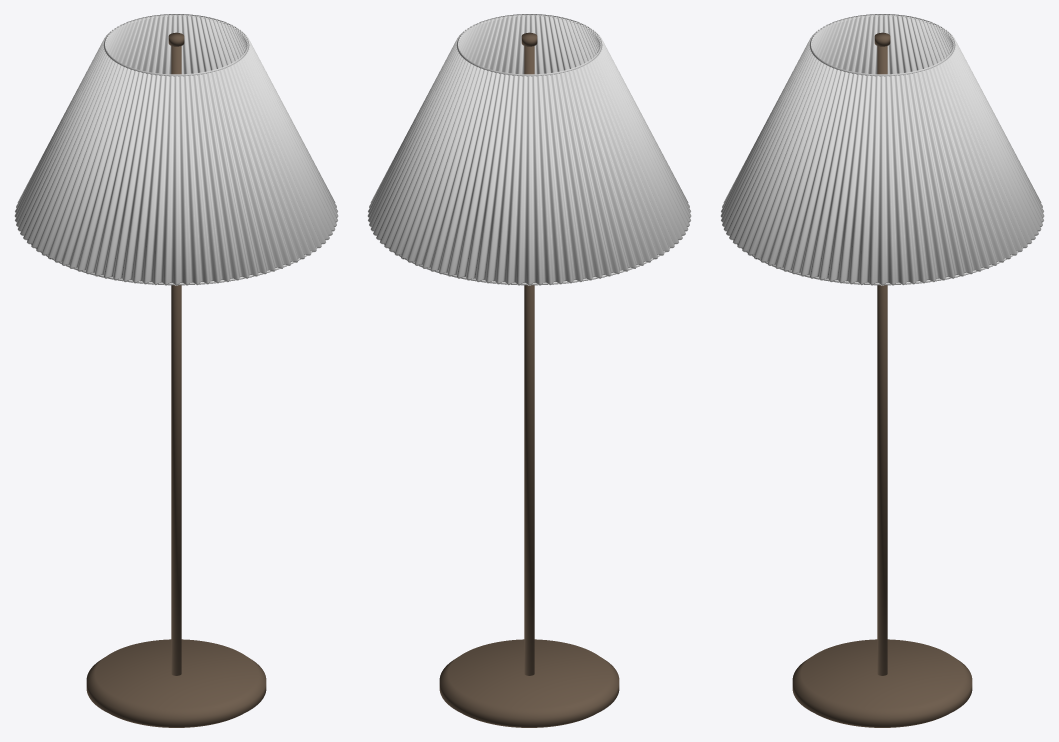
Rendered from atelier-lumen-floor-lamp.glb.
3 views of the same model, side by side, from view 1: azimuth 30°, elevation 25°; view 2: azimuth 150°, elevation 25°; view 3: azimuth 270°, elevation 25° (orthographic).
Parts seen in each view (by area): view 1: Lumen | 96 folded linen pleats, Lumen | weighted turned base, Lumen | slender stem, Lumen | folded binding.001; view 2: Lumen | 96 folded linen pleats, Lumen | weighted turned base, Lumen | slender stem, Lumen | folded binding.001; view 3: Lumen | 96 folded linen pleats, Lumen | weighted turned base, Lumen | slender stem, Lumen | folded binding.001.
Boxes of the visible parts, bbox=[...] form: Lumen | 96 folded linen pleats: bbox=[14, 14, 338, 285]; Lumen | weighted turned base: bbox=[86, 639, 266, 727]; Lumen | slender stem: bbox=[171, 46, 181, 675]; Lumen | folded binding.001: bbox=[103, 14, 249, 76]; Lumen | 96 folded linen pleats: bbox=[367, 14, 691, 285]; Lumen | weighted turned base: bbox=[439, 639, 619, 727]; Lumen | slender stem: bbox=[524, 46, 534, 675]; Lumen | folded binding.001: bbox=[456, 14, 602, 76]; Lumen | 96 folded linen pleats: bbox=[720, 14, 1044, 285]; Lumen | weighted turned base: bbox=[792, 639, 972, 727]; Lumen | slender stem: bbox=[877, 46, 887, 675]; Lumen | folded binding.001: bbox=[809, 14, 955, 76].
Size of the model in its own units: 0.7574 by 1.69 by 0.7574.
